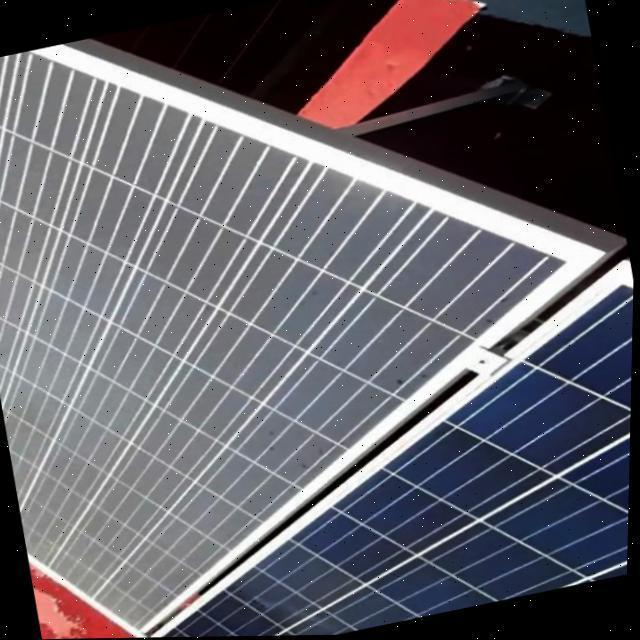Normal Solar Panel: (105, 262, 635, 638)
